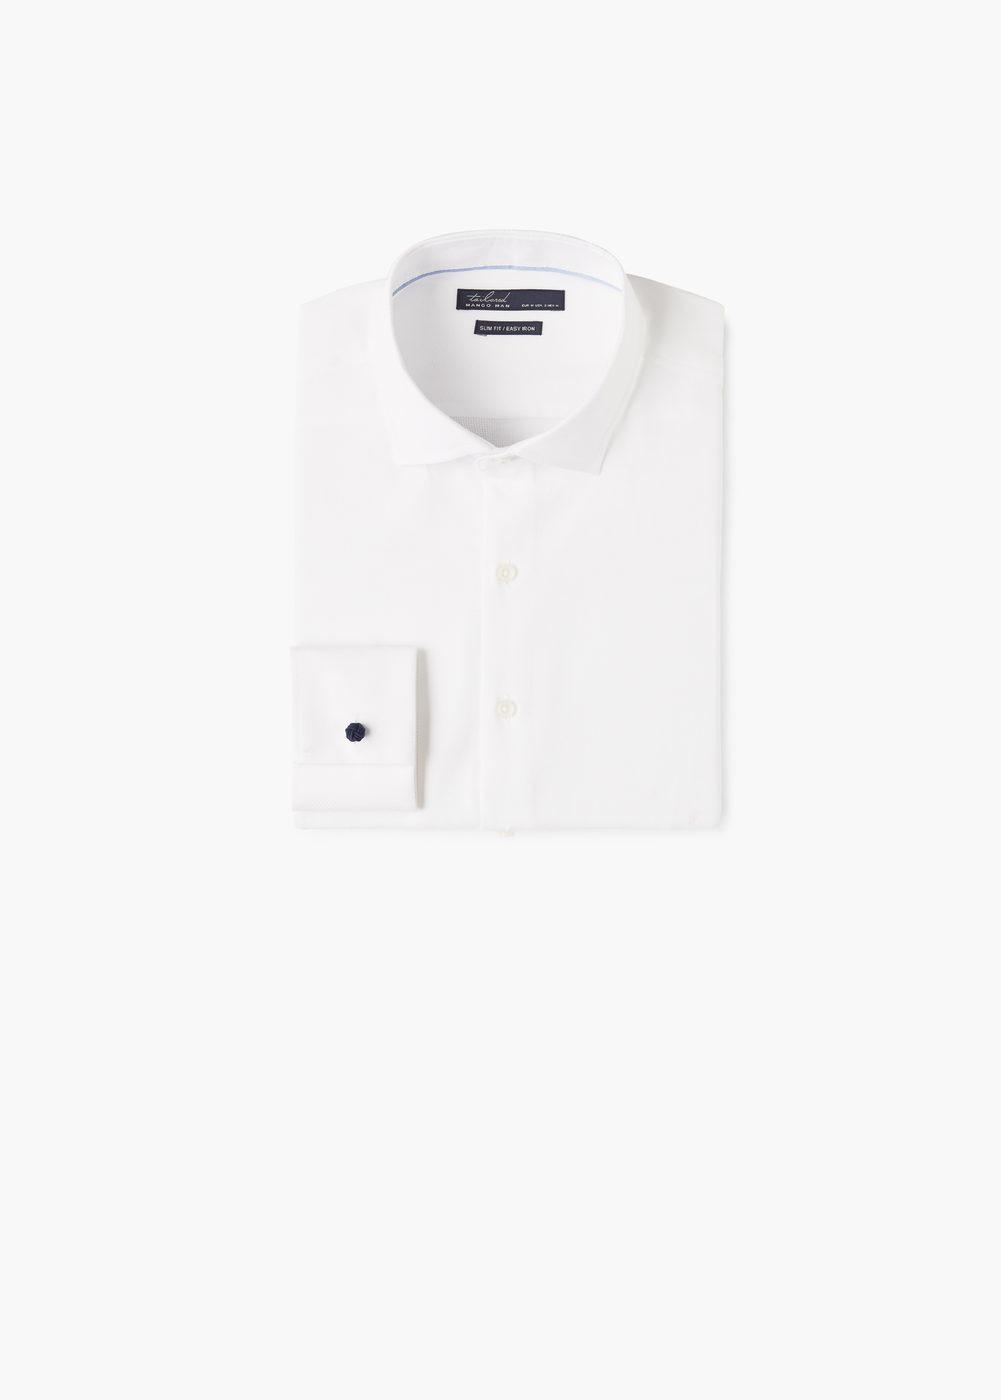teeshirt: (259, 233, 750, 869)
